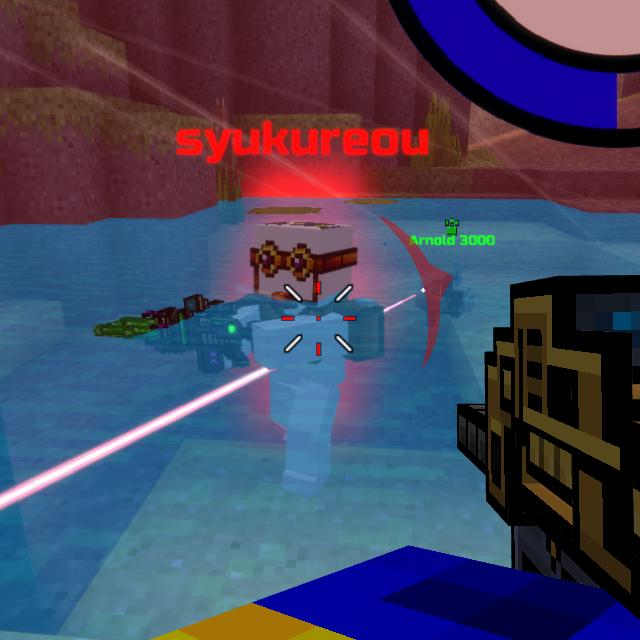Enemy: (194, 222, 385, 496)
